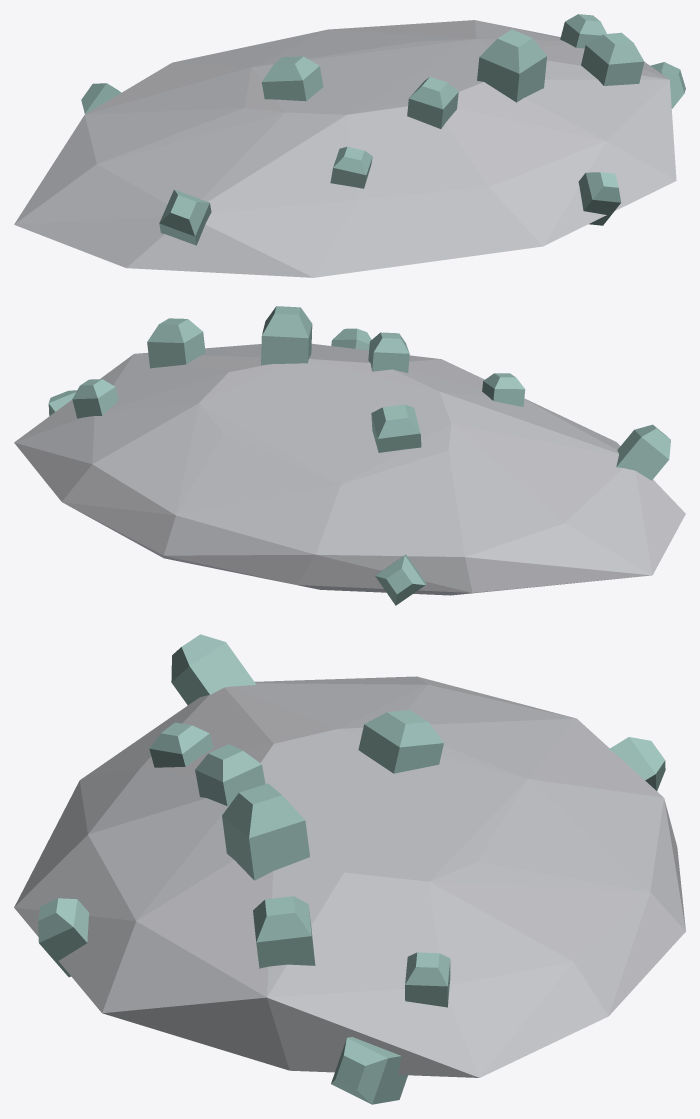
The model's file is SM_MR_Crystal_Large_01.fbx.
The picture shows the model from 3 angles, top to bottom: view 1: azimuth 30°, elevation 25°; view 2: azimuth 150°, elevation 25°; view 3: azimuth 270°, elevation 25°; orthographic projection. The views are drawn at different scales.
Visible parts, largest first — view 1: SM_MR_Crystal_Large_01; view 2: SM_MR_Crystal_Large_01; view 3: SM_MR_Crystal_Large_01.
Part boxes in pixels (x1,y1,x2,y2): SM_MR_Crystal_Large_01: [14, 14, 685, 277]; SM_MR_Crystal_Large_01: [14, 306, 685, 605]; SM_MR_Crystal_Large_01: [14, 634, 685, 1104].
Bounding box in the file's own units: 2.65 × 1.85 × 0.6053.
